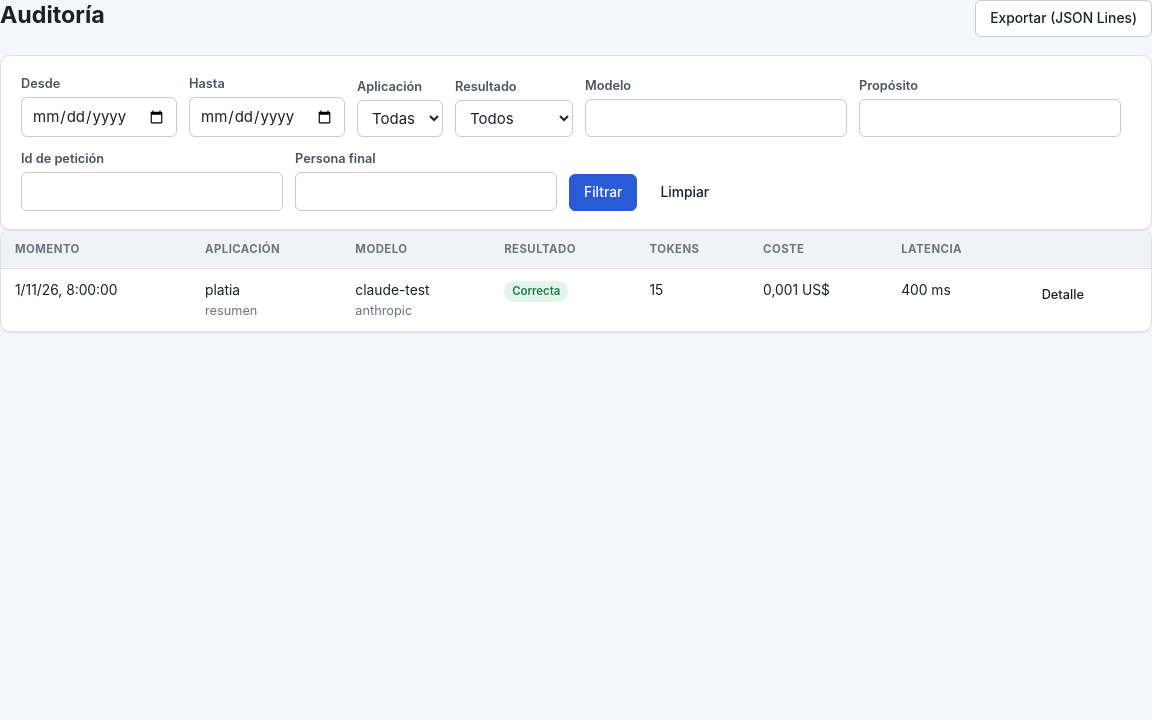
auditoría › el detalle muestra la huella, no el texto
Click the button "Detalle" at (1063, 295), box [1031,280,1095,309]
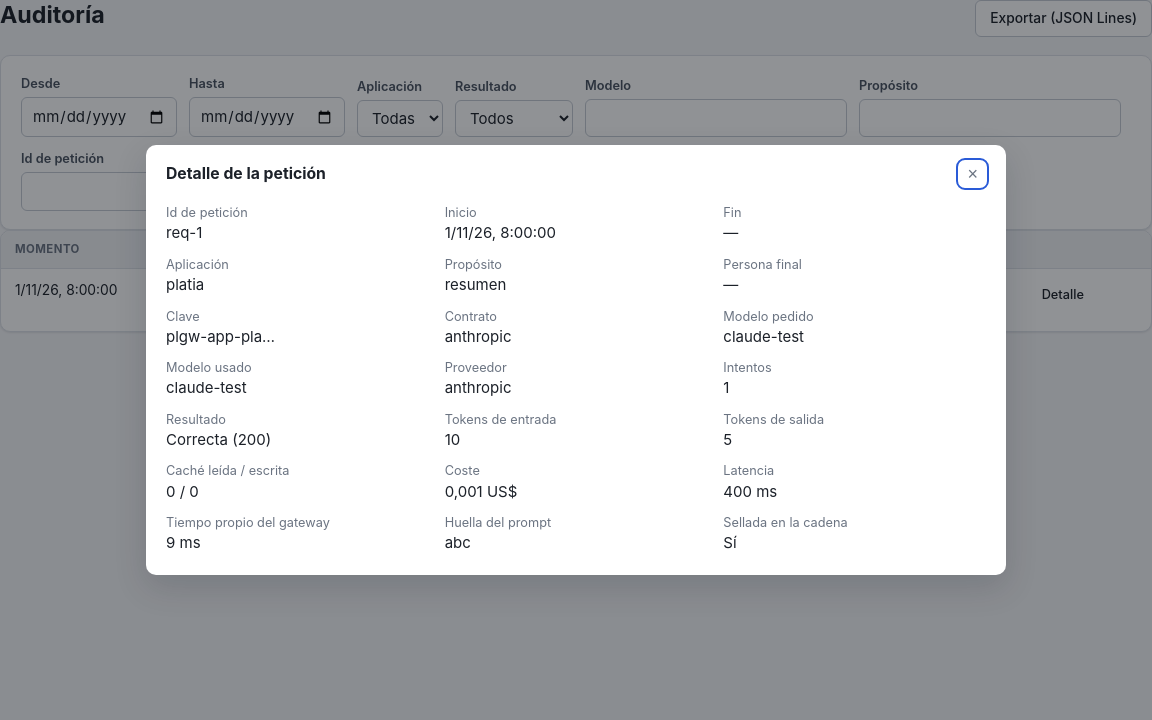
Expected: the text "req-1" is shown, [166,223,202,242]
Expected: the text "abc" is shown, [445,533,471,552]
